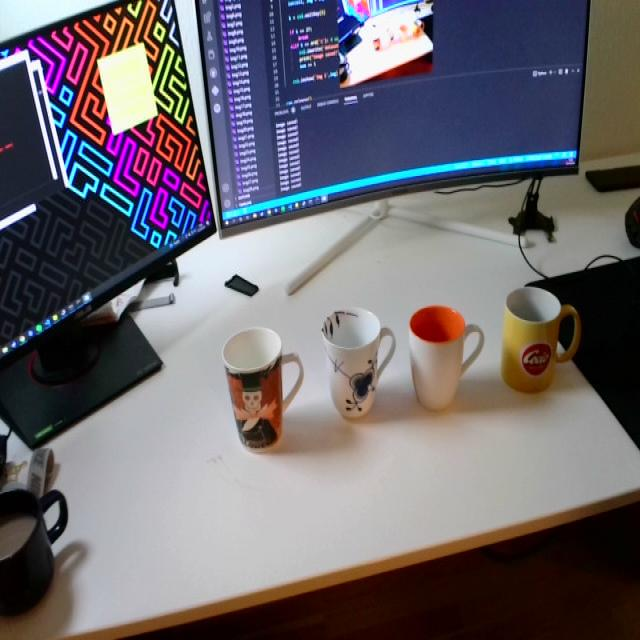Cocio Cup: (499, 286, 582, 396)
Cup: (0, 485, 65, 614)
Halloween cup: (224, 327, 306, 449)
Hand painted cup: (322, 309, 400, 422)
White Cup: (408, 306, 486, 412)
